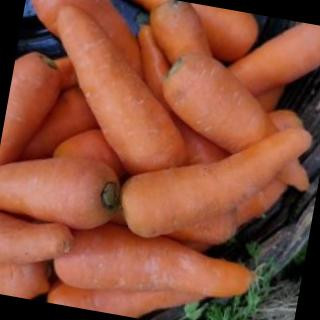Wortel: (114, 98, 317, 266), (29, 1, 213, 184), (46, 214, 262, 320), (149, 46, 294, 164), (1, 142, 132, 240)
